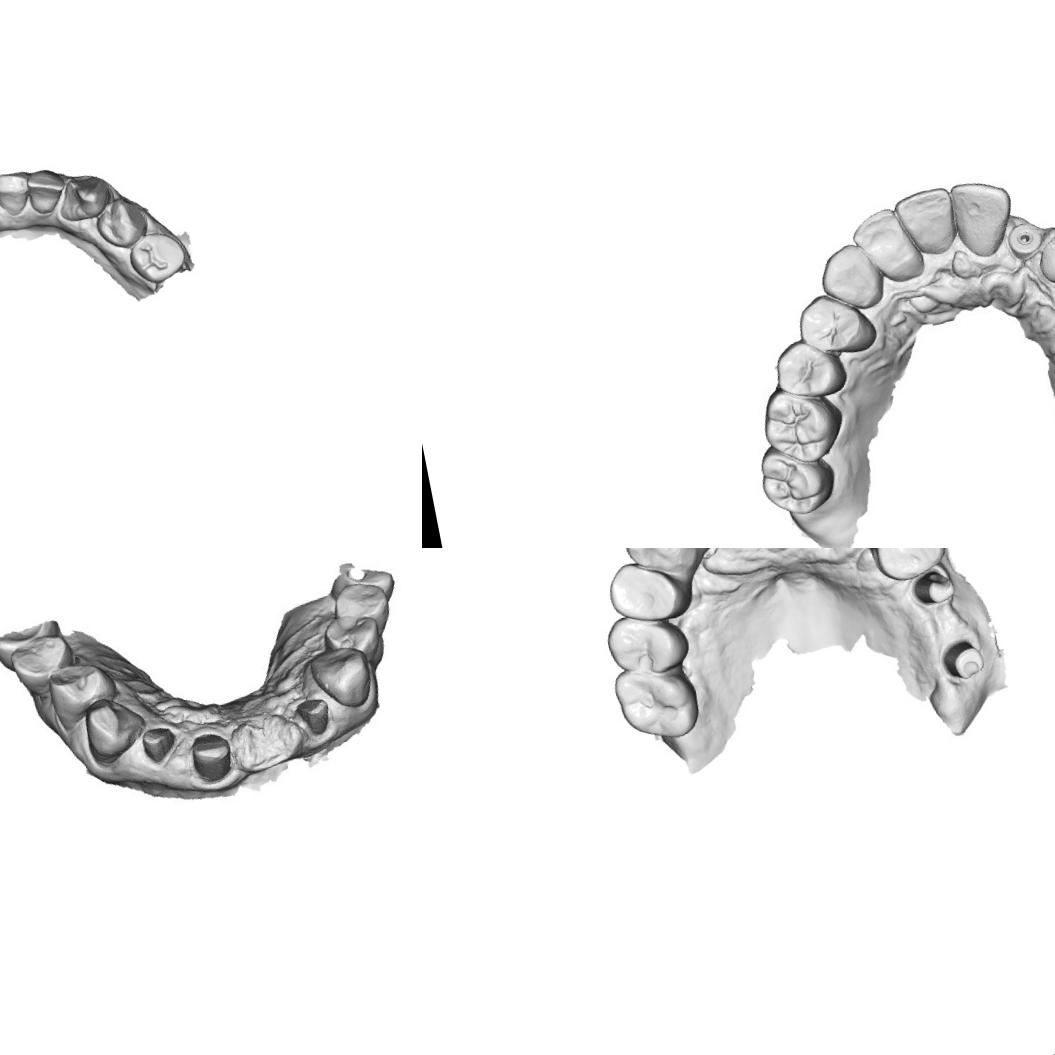abutment: (938, 632, 990, 684), (912, 564, 962, 612)
canine: (812, 237, 890, 316), (312, 644, 382, 714), (81, 694, 147, 764), (52, 170, 114, 224), (615, 548, 685, 578), (1037, 214, 1055, 282)
crown: (188, 724, 241, 788), (134, 718, 176, 765), (293, 692, 334, 734)
implant: (1005, 218, 1041, 260)
incisor: (947, 172, 1020, 259), (854, 206, 924, 288), (895, 184, 958, 255), (22, 164, 70, 218), (0, 167, 35, 219)
molar: (610, 657, 706, 745), (760, 384, 841, 466), (758, 441, 832, 516)
premolar: (598, 553, 682, 630), (605, 607, 690, 683), (5, 629, 86, 698), (794, 289, 874, 355), (46, 661, 112, 728), (774, 336, 844, 399), (123, 226, 190, 288), (322, 604, 390, 662), (92, 192, 150, 252), (332, 570, 393, 625), (871, 548, 950, 582)
